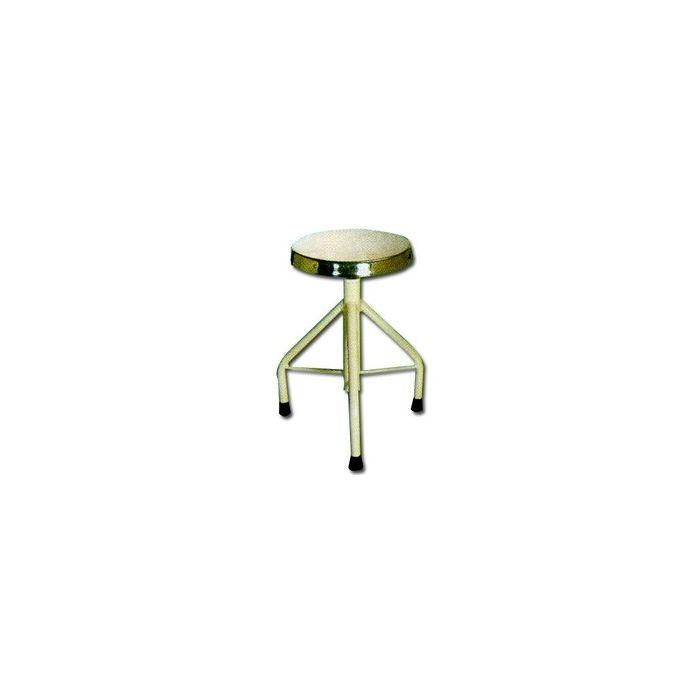stool: (275, 227, 426, 472)
